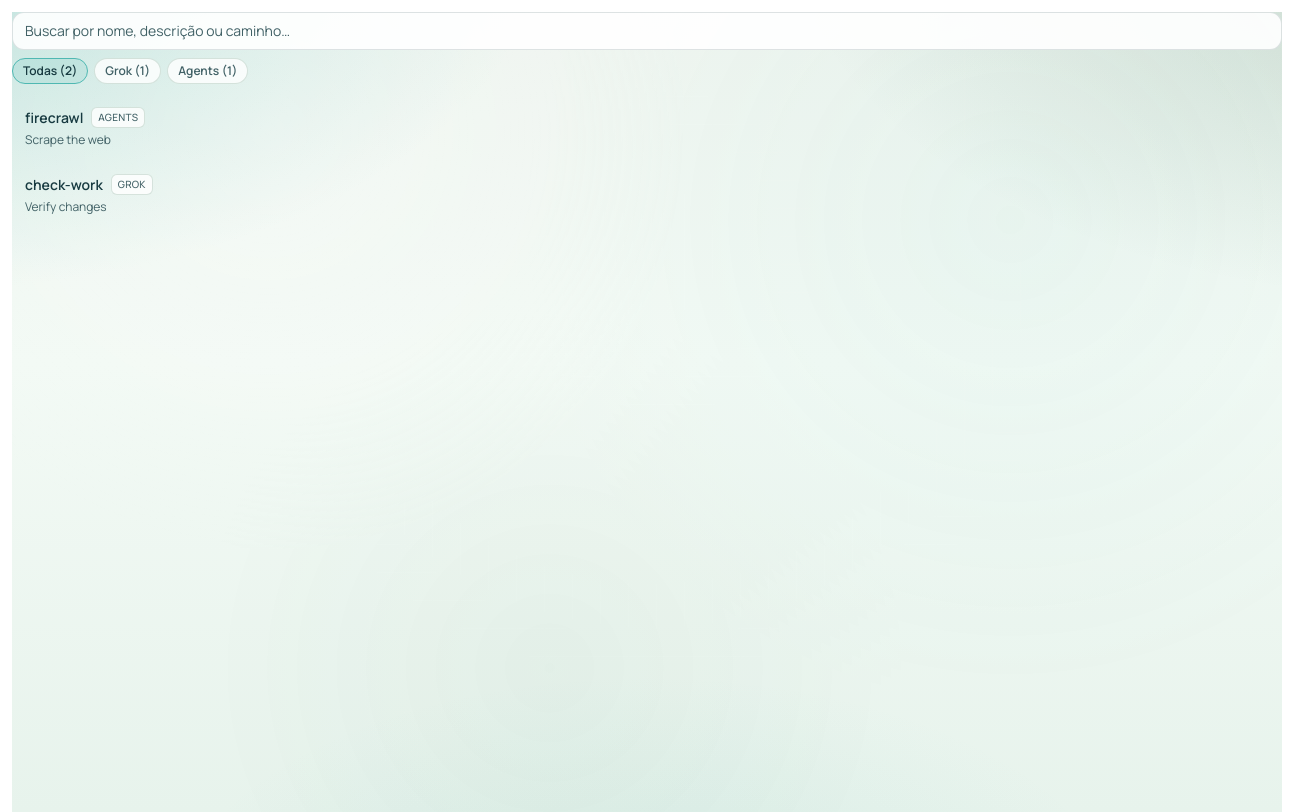
Scenario: SkillList › filters by search query
Type "check" into the search field at (647, 31), box [12, 12, 1282, 50]
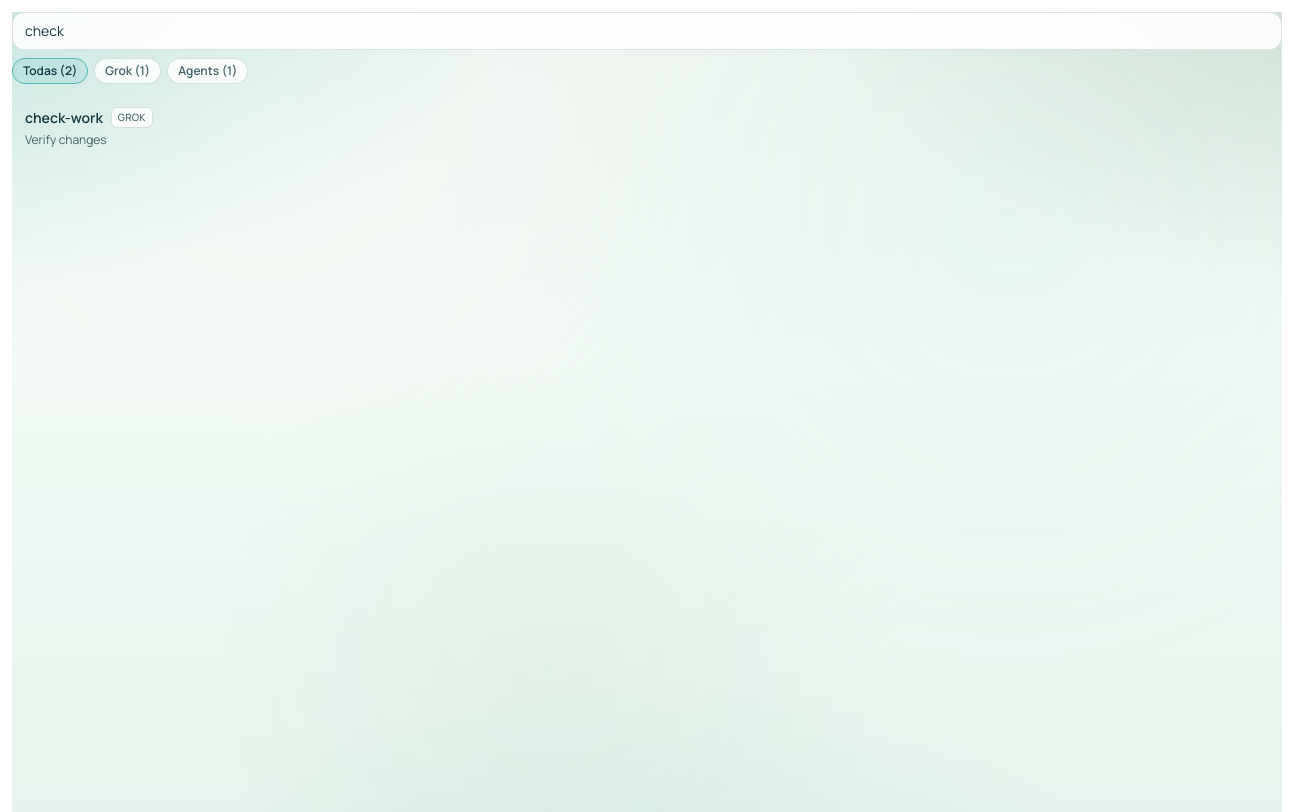
Expected: the text "check-work" is shown, [25, 108, 103, 128]
Now the button "firecrawl" is gone
